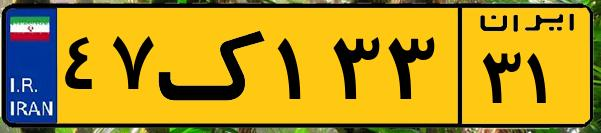1: (270, 28, 330, 110), (525, 38, 570, 115)
3: (385, 28, 445, 110), (330, 28, 385, 110), (475, 38, 525, 113)
4: (57, 26, 110, 100)
7: (110, 28, 158, 98)
ک: (158, 12, 270, 120)
